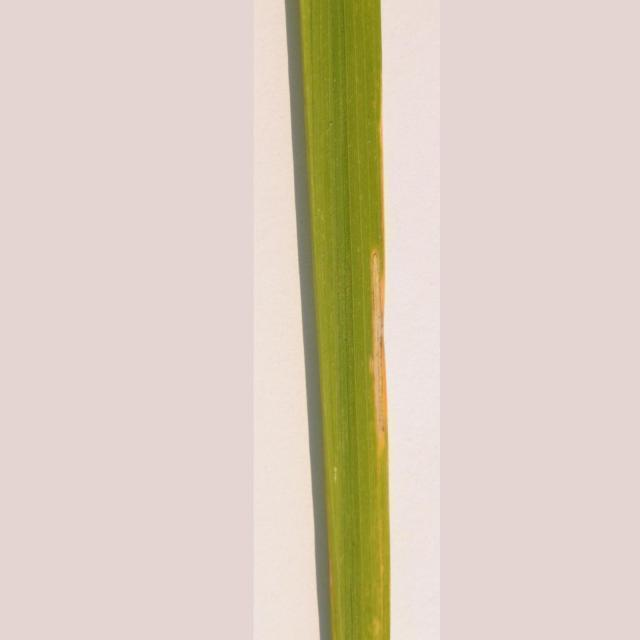Bacterial_Leaf_Blight: (356, 206, 413, 550)
